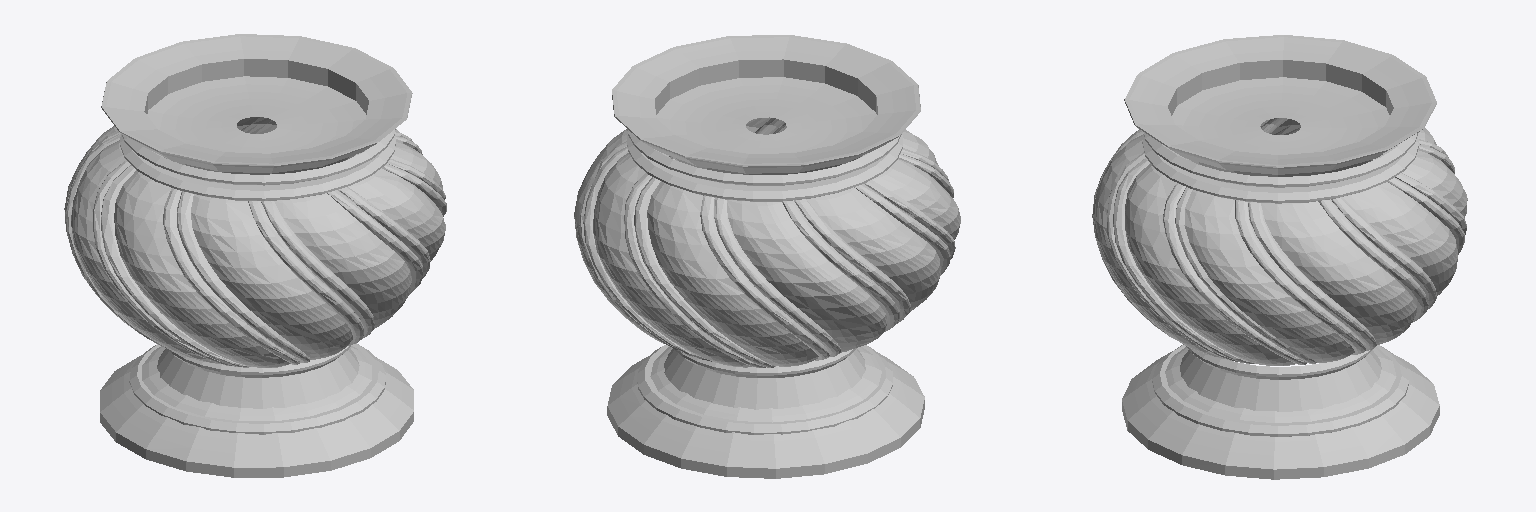
File: Florero.obj
The picture shows the model from 3 angles: view 1: azimuth 30°, elevation 25°; view 2: azimuth 150°, elevation 25°; view 3: azimuth 270°, elevation 25°; orthographic projection.
Visible parts, largest first — view 1: Florero; view 2: Florero; view 3: Florero.
Boxes of the visible parts, box(x1,y1,x2,y2) form: Florero: box(64, 34, 446, 477); Florero: box(574, 35, 960, 478); Florero: box(1092, 35, 1467, 479).
Bounding box in the file's own units: 0.5654 × 0.5049 × 0.5509.